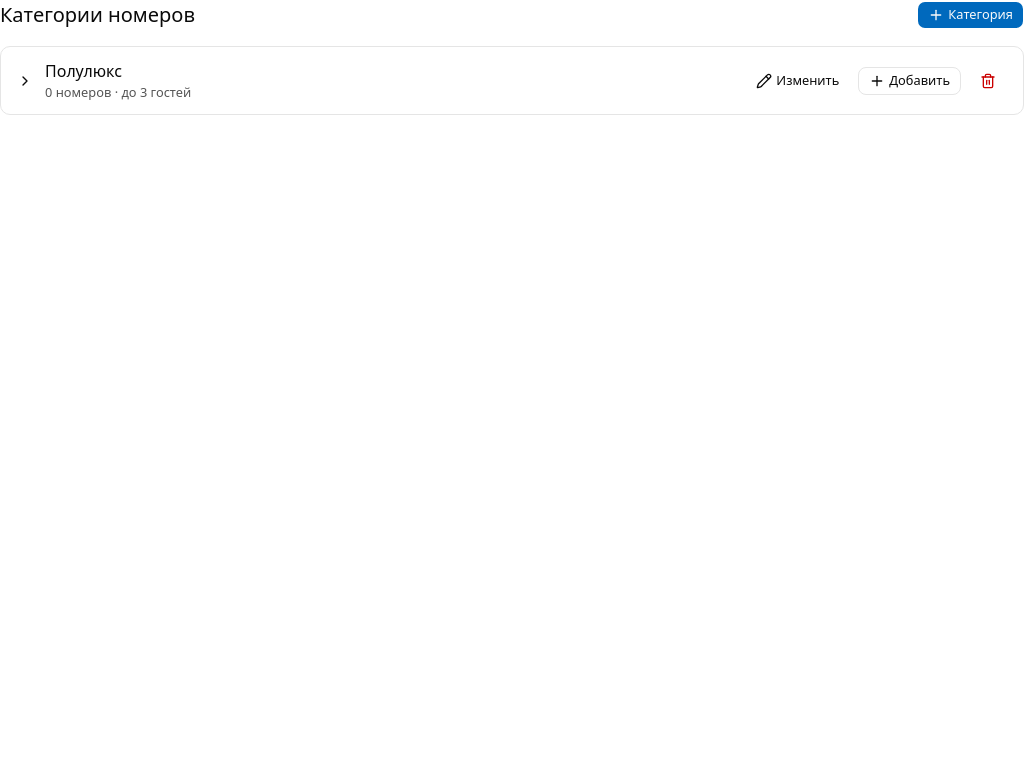
it: InventoryRoomsPage — render › [P4] click «+ Номера» on a category → BulkAdd sheet opens с category name
The width and height of the screenshot is (1024, 768).
Click the button with aria-label "Добавить номера в категорию «Полулюкс»": (910, 81) left=858, top=67, right=961, bottom=95
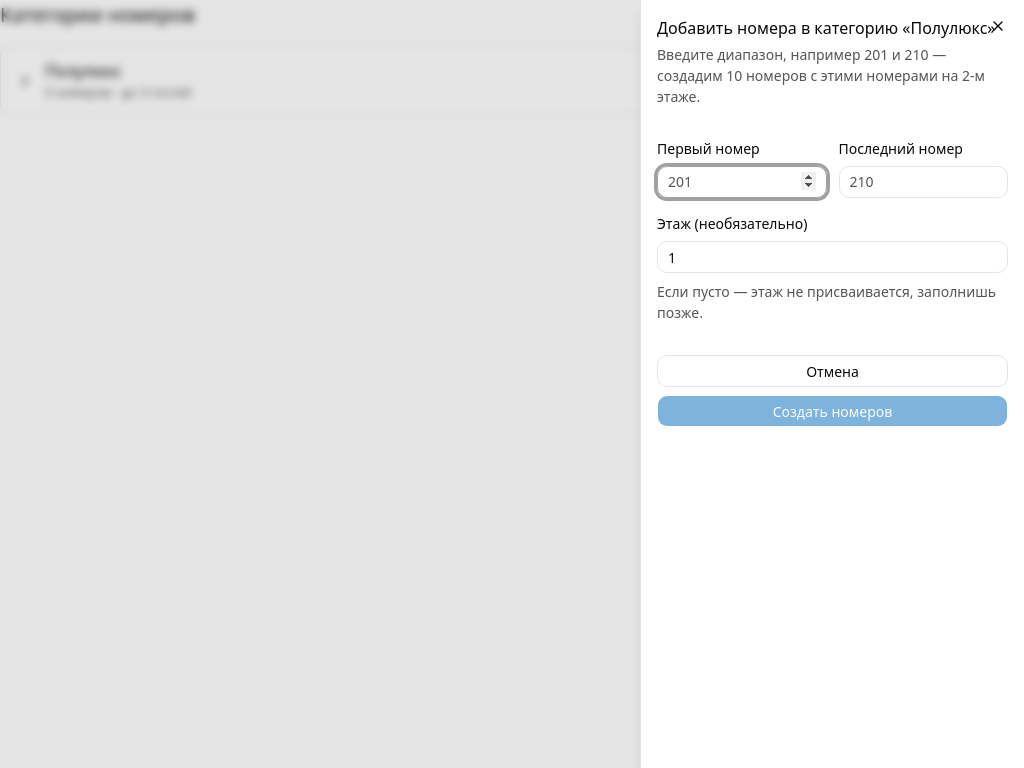
Result: the heading "Добавить номера в категорию «Полулюкс»" is shown at left=657, top=16, right=1008, bottom=42
